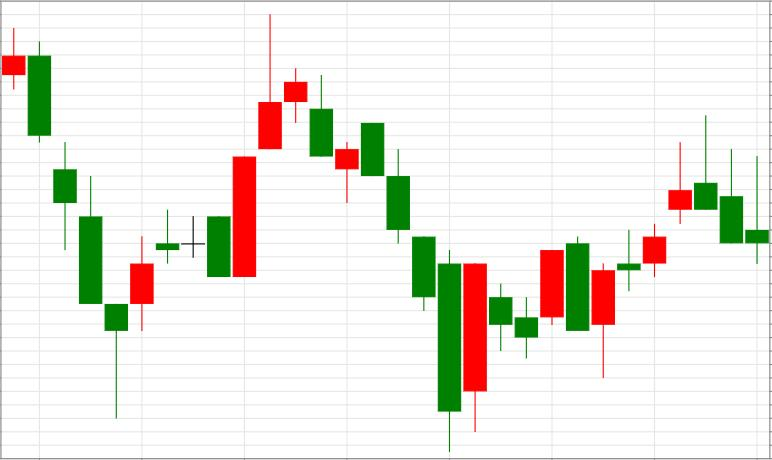evening_star_fall: (207, 14, 332, 277)
hammer_rise: (2, 28, 127, 418)
shooting_star_fall: (592, 115, 718, 378), (591, 142, 693, 378)
